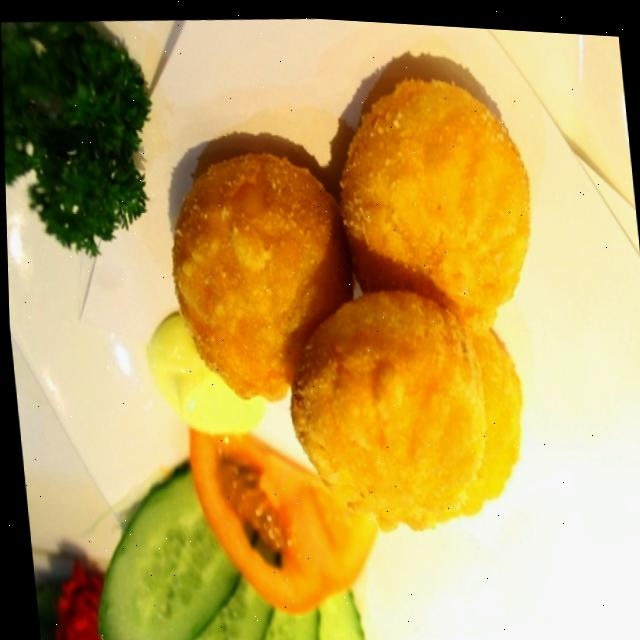炸货点心: (138, 10, 574, 552)
蛋糕甜品: (138, 10, 574, 552)
